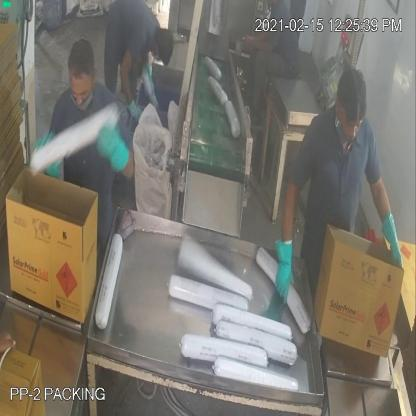glove: (88, 116, 137, 186), (372, 195, 408, 276), (270, 228, 303, 309)
